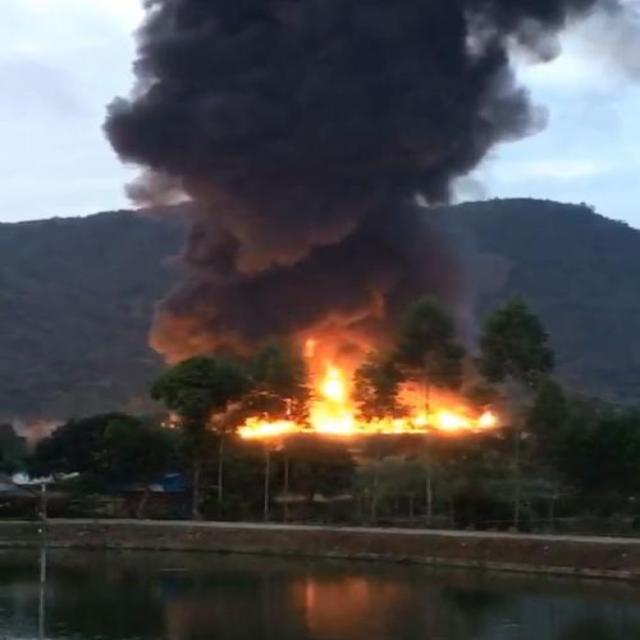Fire: (236, 359, 504, 445)
Smoke: (101, 0, 640, 356)
